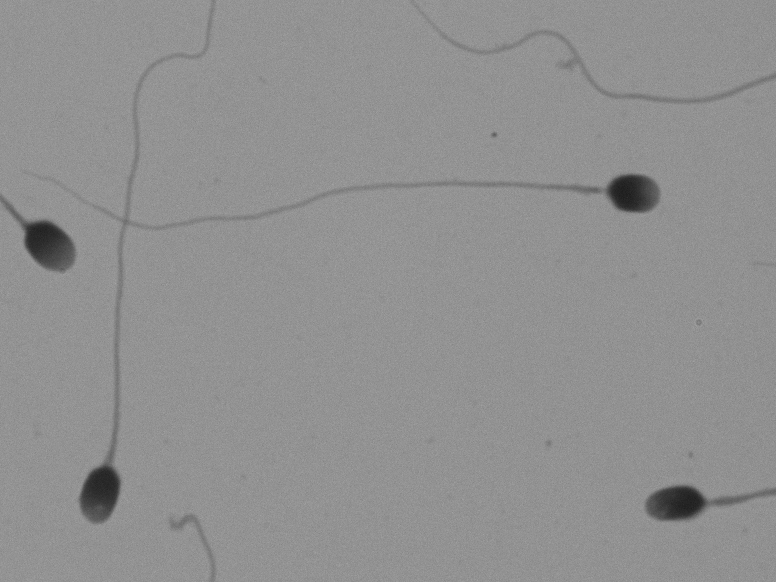Abnormal: (608, 420, 752, 561)
Normal: (83, 118, 690, 284), (74, 14, 221, 536), (7, 158, 92, 334)
